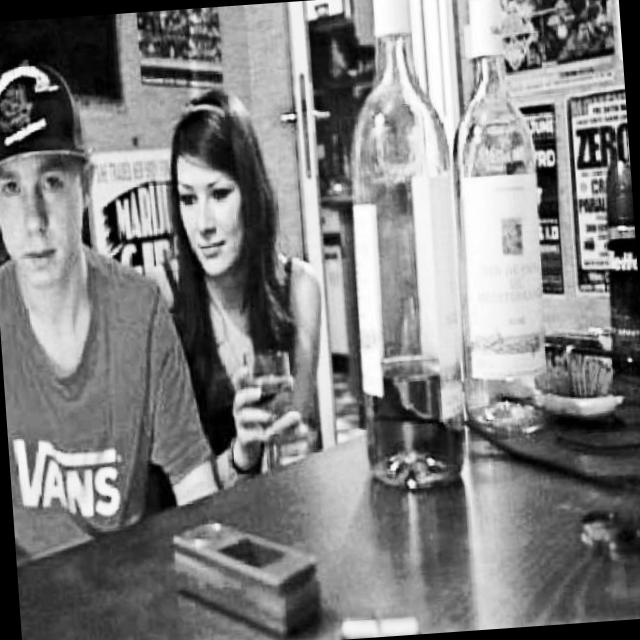Person: (0, 43, 221, 568), (133, 82, 340, 504)
